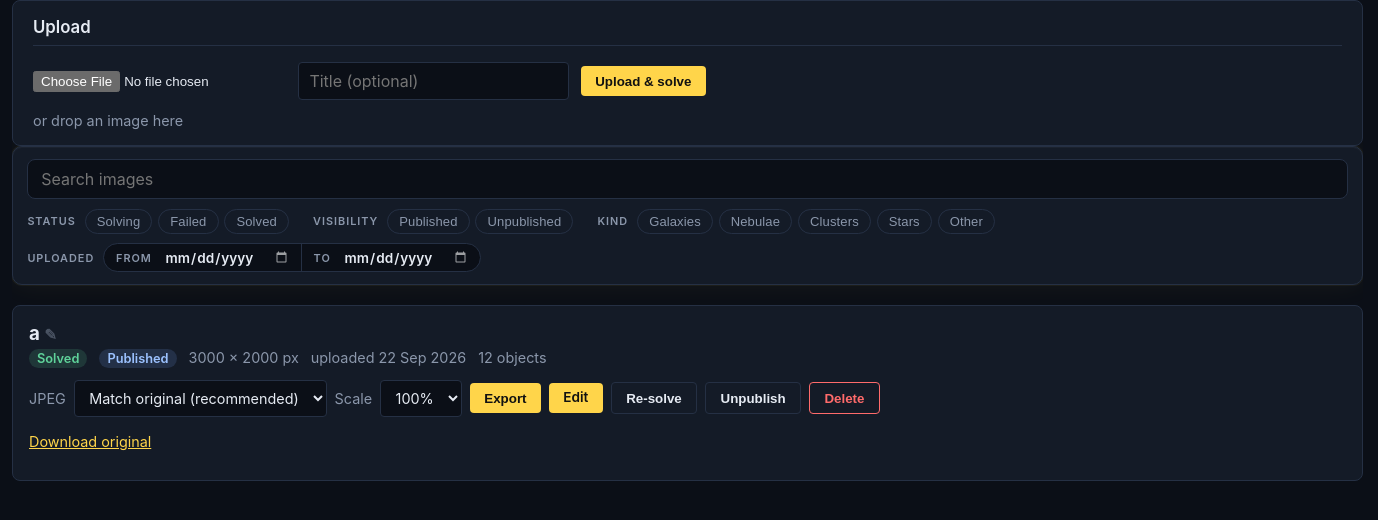
Test: ImagesPage search and filters (#189) › a card action that finishes after the search moved on refreshes the new search
The image size is (1378, 520).
Click the button "Unpublish". click: (753, 398)
box: x1=705 y1=382 x2=801 y2=414
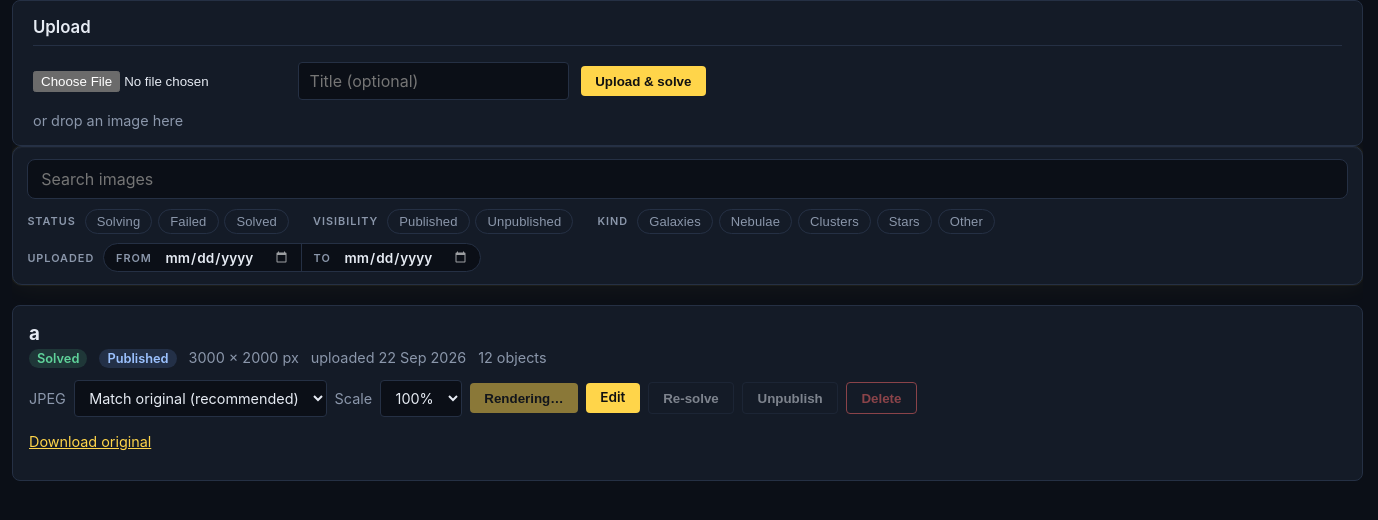
Type "veil" into the search field labelled "Search images". click: (688, 179)
box: x1=27 y1=159 x2=1348 y2=199
Wait 250 ms
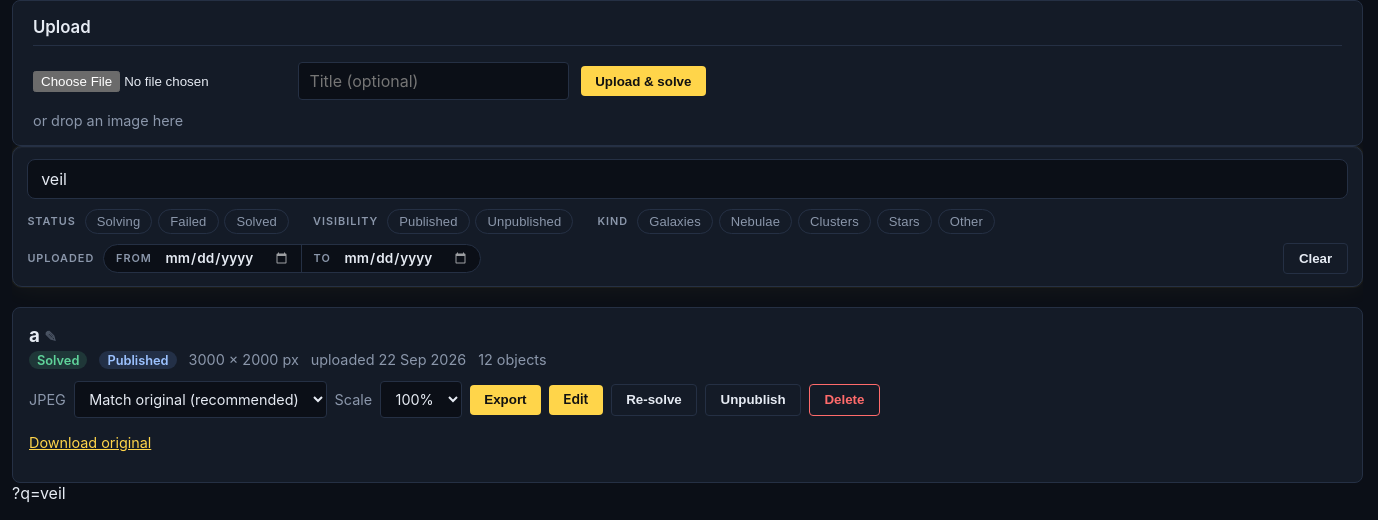
Check: the text with test id "url" reads "?q=veil", box x1=12 y1=483 x2=66 y2=503
